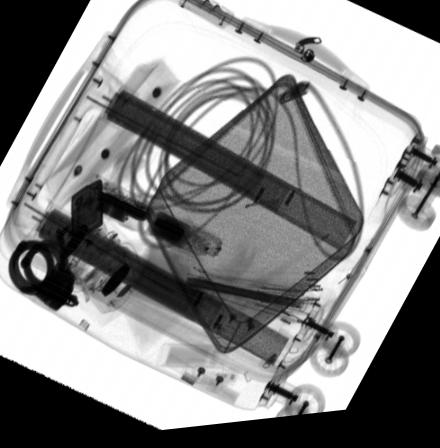Baton: (76, 172, 223, 266)
HandCuffs: (8, 240, 79, 313)
Lighter: (70, 181, 102, 244)
